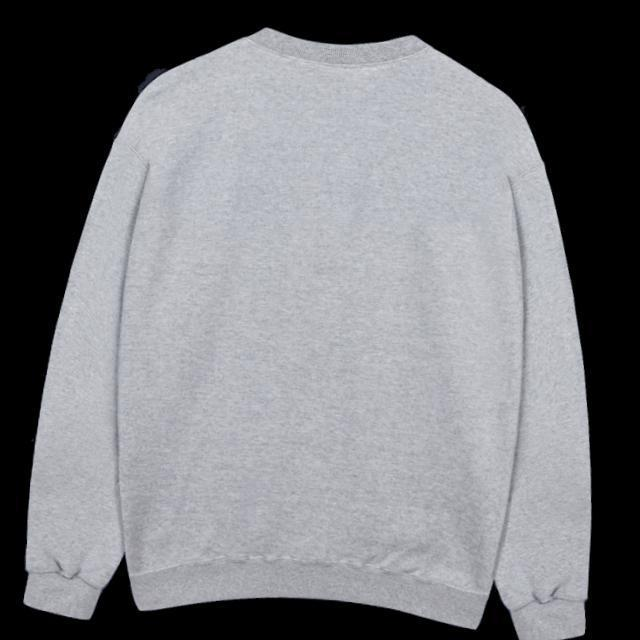sweater: (19, 26, 596, 640)
